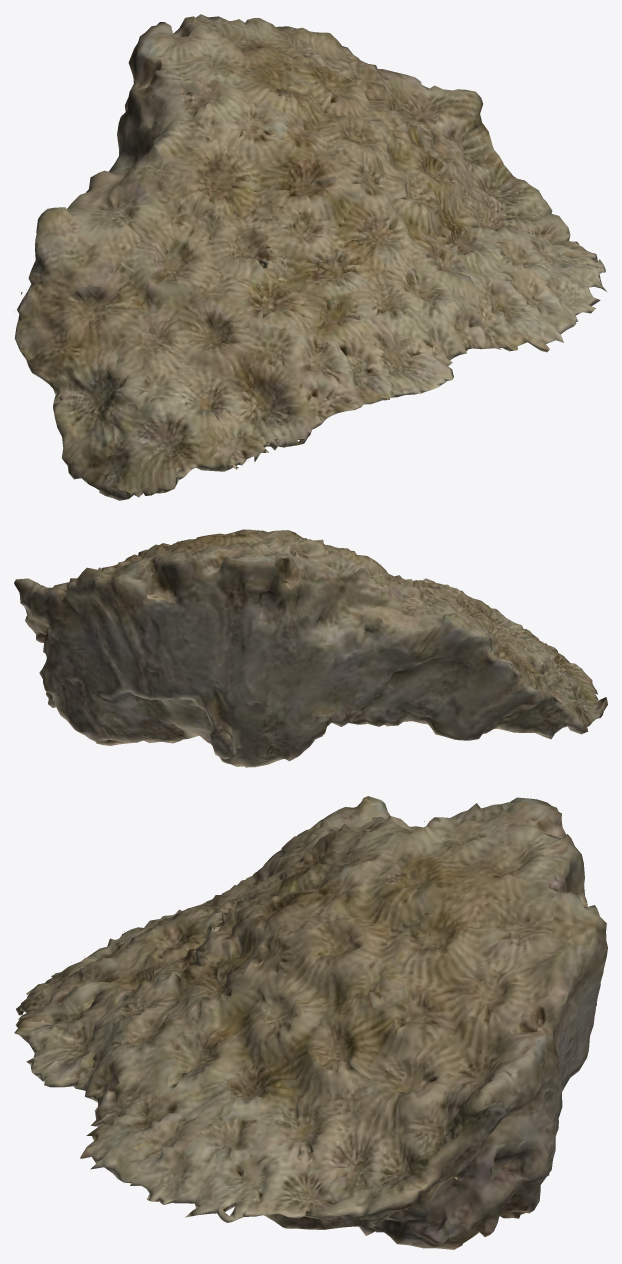
Rendered from diploastrea.glb.
The picture shows the model from 3 angles, top to bottom: view 1: azimuth 30°, elevation 25°; view 2: azimuth 150°, elevation 25°; view 3: azimuth 270°, elevation 25°; orthographic projection. The views are drawn at different scales.
Size of the model in its own units: 97.84 by 45.57 by 77.42.
Materials: 1 (1 with a texture image).
